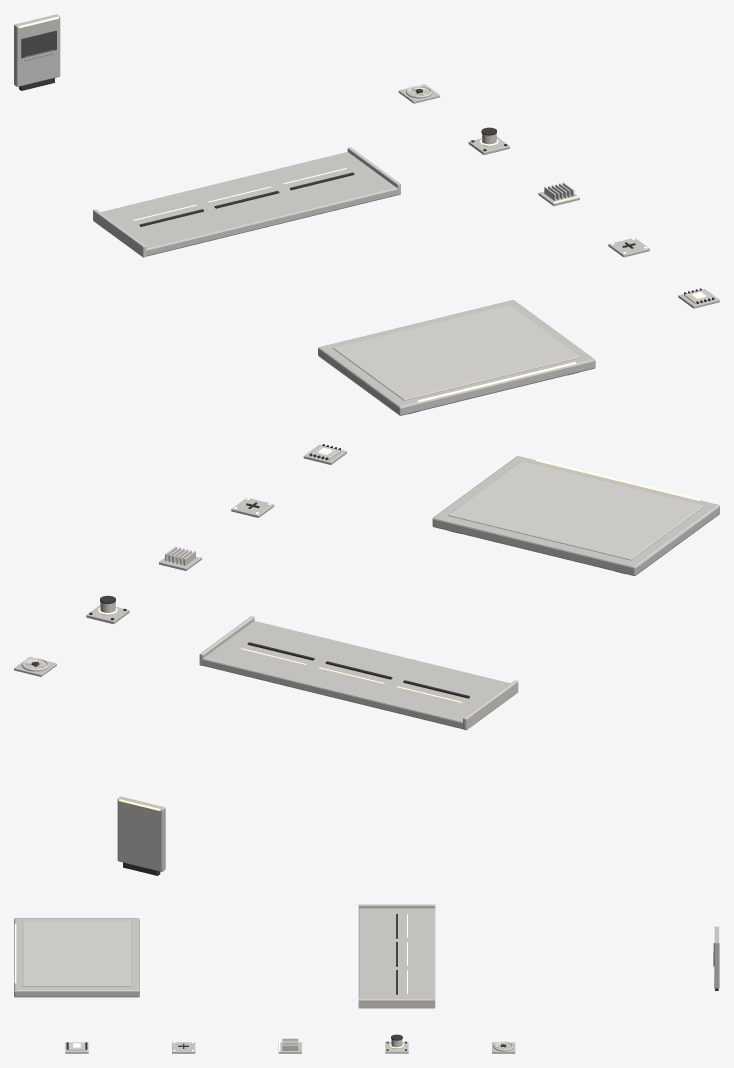
The model's file is topo_all.glb.
3 renders of one model, top to bottom at view 1: azimuth 30°, elevation 25°; view 2: azimuth 150°, elevation 25°; view 3: azimuth 270°, elevation 25°, orthographic. The views are drawn at different scales.
Parts seen in each view (by area): view 1: TOPO_SITE, TOPO_GROUP, TOPO_NE, TOPO_COMP_POWER; view 2: TOPO_SITE, TOPO_GROUP, TOPO_NE, TOPO_COMP_POWER; view 3: TOPO_SITE, TOPO_GROUP, TOPO_NE, TOPO_COMP_POWER, TOPO_COMP_SERVICE, TOPO_COMP_FAN, TOPO_COMP_CTRL, TOPO_COMP_SWITCH.
Boxes of the visible parts, bbox=[...] form: TOPO_SITE: bbox=[318, 300, 595, 415]; TOPO_GROUP: bbox=[93, 147, 400, 257]; TOPO_NE: bbox=[14, 14, 60, 90]; TOPO_COMP_POWER: bbox=[468, 127, 509, 154]; TOPO_SITE: bbox=[432, 456, 719, 575]; TOPO_GROUP: bbox=[199, 616, 518, 730]; TOPO_NE: bbox=[117, 796, 165, 875]; TOPO_COMP_POWER: bbox=[86, 595, 129, 624]; TOPO_SITE: bbox=[14, 918, 139, 997]; TOPO_GROUP: bbox=[358, 904, 435, 1008]; TOPO_NE: bbox=[713, 926, 719, 990]; TOPO_COMP_POWER: bbox=[385, 1034, 408, 1053]; TOPO_COMP_SERVICE: bbox=[278, 1038, 301, 1053]; TOPO_COMP_FAN: bbox=[492, 1041, 515, 1053]; TOPO_COMP_CTRL: bbox=[65, 1042, 88, 1053]; TOPO_COMP_SWITCH: bbox=[172, 1042, 195, 1053].
Bounding box in the file's own units: 3.17 × 0.5205 × 6.62.
